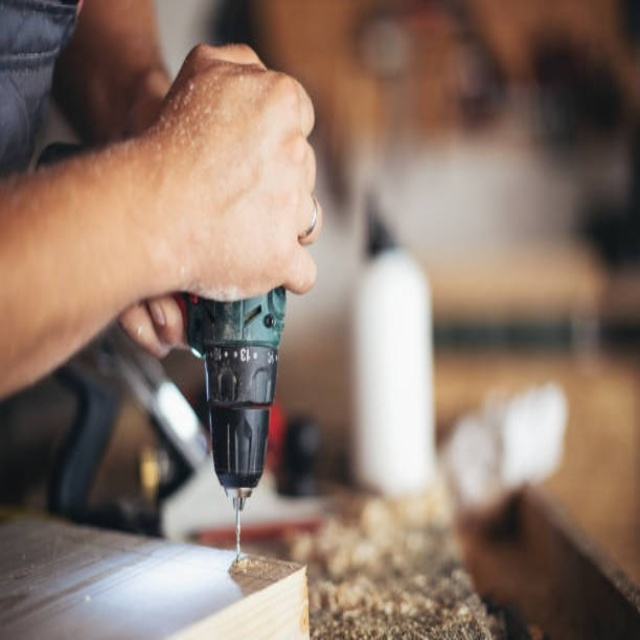Sin_guantes: (125, 42, 324, 309)
